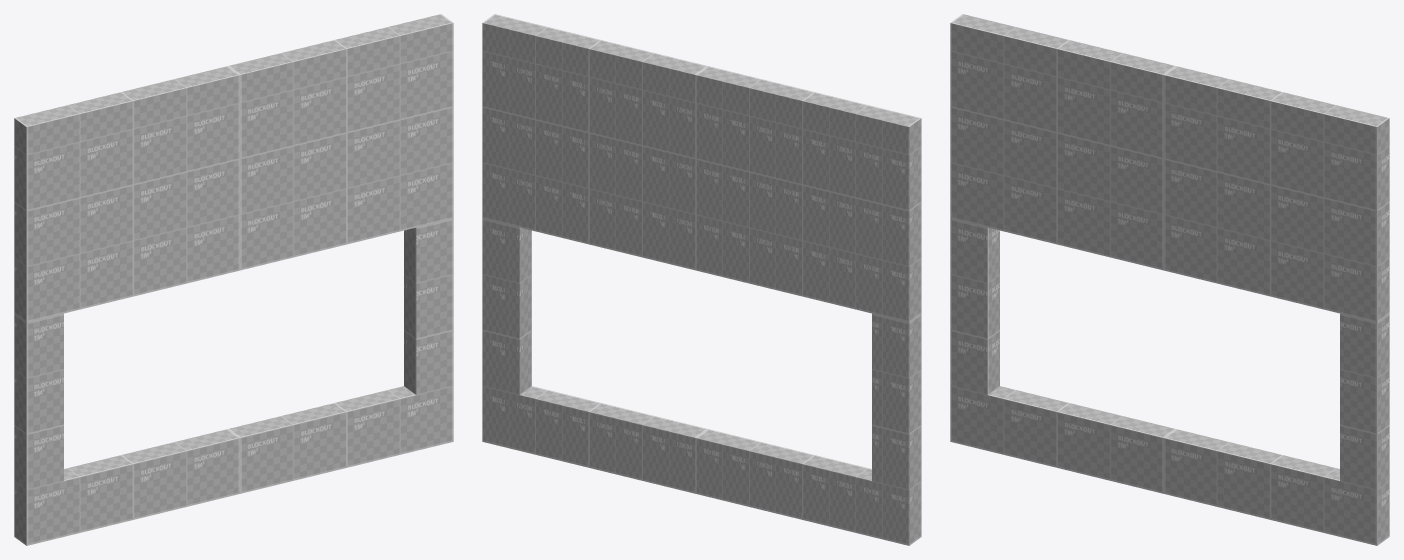
The model's file is BlockoutThinWall08WindowLow.fbx.
The picture shows the model from 3 angles, left to right: view 1: azimuth 30°, elevation 25°; view 2: azimuth 150°, elevation 25°; view 3: azimuth 330°, elevation 25°; orthographic projection.
Visible parts, largest first — view 1: BlockoutThinWall08WindowLow; view 2: BlockoutThinWall08WindowLow; view 3: BlockoutThinWall08WindowLow.
Boxes of the visible parts, x1,y1,x2,y2 form: BlockoutThinWall08WindowLow: (14,14,453,545); BlockoutThinWall08WindowLow: (482,14,921,545); BlockoutThinWall08WindowLow: (950,14,1389,545).
Size of the model in its own units: 800 by 750 by 40.
